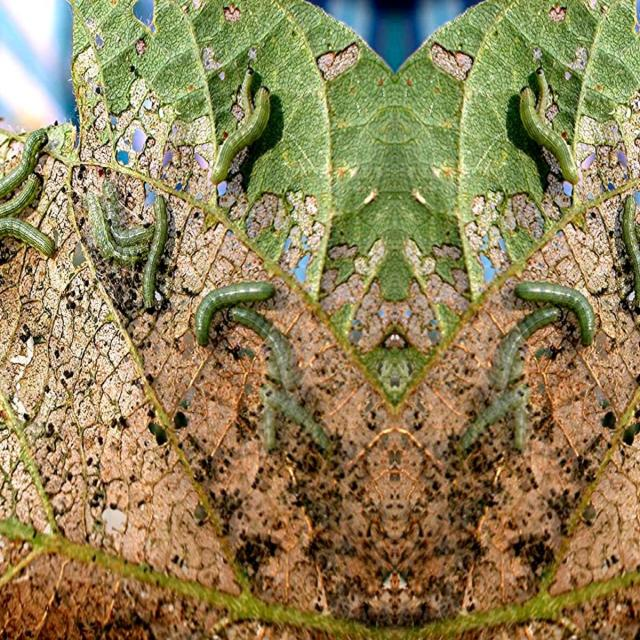Armyworm: (486, 51, 588, 210), (213, 70, 285, 194), (219, 299, 312, 393), (78, 174, 153, 286), (249, 366, 330, 461), (517, 253, 605, 339), (142, 189, 190, 332), (186, 273, 283, 333), (491, 307, 562, 381), (607, 192, 640, 308), (3, 213, 63, 264), (3, 168, 57, 224), (1, 127, 51, 185)
Armyworm_damage: (468, 206, 514, 289), (112, 1, 186, 43), (278, 223, 320, 289), (96, 125, 133, 177), (122, 115, 156, 168)
